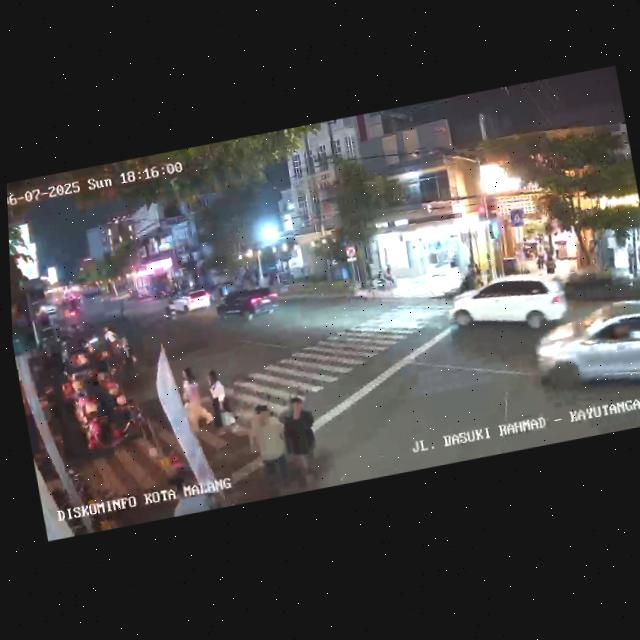car: (527, 292, 640, 418), (448, 265, 573, 346), (212, 280, 280, 328), (171, 287, 215, 316)
motorcycle: (103, 324, 124, 358), (162, 300, 181, 324)
person: (243, 399, 297, 498), (279, 391, 329, 495), (163, 458, 218, 517), (175, 363, 216, 442), (203, 366, 234, 435), (115, 334, 142, 382), (623, 243, 638, 276), (531, 238, 545, 270), (544, 251, 558, 275), (635, 241, 640, 273)
